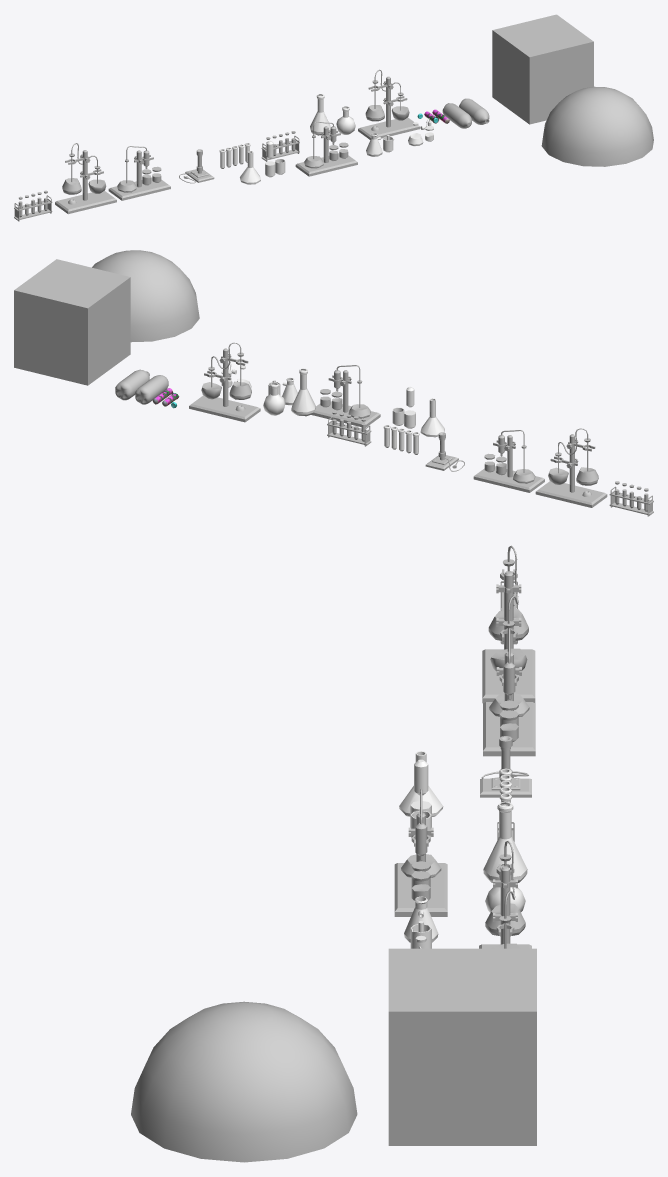
Rendered from GorillaTagScienceExperimentAssets.fbx.
3 renders of one model, top to bottom at view 1: azimuth 30°, elevation 25°; view 2: azimuth 150°, elevation 25°; view 3: azimuth 270°, elevation 25°, orthographic. The views are drawn at different scales.
Parts seen in each view (by area): view 1: BottleLiquid, BubbleHemisphere, ScienceSetEmissive_1, ScienceSet3, ScienceSet2, ScienceSetEmissive, ScienceSet2_Glass, ScienceSet3_Glass, ScienceSetEmissive_2, ScienceSet4, ScienceSet4_Glass, _2LiterBottle (+4 smaller); view 2: BottleLiquid, BubbleHemisphere, ScienceSet3, ScienceSetEmissive_1, ScienceSetEmissive, ScienceSet2, ScienceSet3_Glass, ScienceSet2_Glass, ScienceSet4, ScienceSetEmissive_2, ScienceSet4_Glass, _2LiterBottle (+2 smaller); view 3: BottleLiquid, BubbleHemisphere, ScienceSetEmissive_1, ScienceSetEmissive, ScienceSet2, ScienceSet3, ScienceSet3_Glass, ScienceSet2_Glass, ScienceSet5, ScienceSet1_Glass.
Boxes of the visible parts, bbox=[...] form: BottleLiquid: bbox=[492, 14, 593, 124]; BubbleHemisphere: bbox=[541, 86, 653, 166]; ScienceSetEmissive_1: bbox=[55, 143, 116, 214]; ScienceSet3: bbox=[358, 69, 420, 139]; ScienceSet2: bbox=[295, 121, 357, 176]; ScienceSetEmissive: bbox=[108, 146, 170, 200]; ScienceSet2_Glass: bbox=[240, 140, 285, 184]; ScienceSet3_Glass: bbox=[310, 94, 355, 135]; ScienceSetEmissive_2: bbox=[14, 190, 52, 221]; ScienceSet4: bbox=[261, 131, 299, 161]; ScienceSet4_Glass: bbox=[219, 143, 250, 168]; _2LiterBottle: bbox=[459, 98, 489, 124]; BottleLiquid: bbox=[14, 259, 130, 385]; BubbleHemisphere: bbox=[92, 250, 199, 342]; ScienceSet3: bbox=[189, 342, 260, 422]; ScienceSetEmissive_1: bbox=[535, 428, 607, 507]; ScienceSetEmissive: bbox=[473, 430, 544, 492]; ScienceSet2: bbox=[311, 365, 380, 427]; ScienceSet3_Glass: bbox=[263, 368, 315, 416]; ScienceSet2_Glass: bbox=[392, 386, 444, 437]; ScienceSet4: bbox=[327, 411, 371, 446]; ScienceSetEmissive_2: bbox=[609, 481, 653, 516]; ScienceSet4_Glass: bbox=[383, 425, 419, 454]; _2LiterBottle: bbox=[115, 369, 149, 400]; BottleLiquid: bbox=[388, 948, 536, 1145]; BubbleHemisphere: bbox=[131, 1001, 357, 1162]; ScienceSetEmissive_1: bbox=[482, 545, 535, 703]; ScienceSetEmissive: bbox=[483, 628, 535, 756]; ScienceSet2: bbox=[394, 789, 447, 916]; ScienceSet3: bbox=[479, 840, 531, 948]; ScienceSet3_Glass: bbox=[483, 801, 527, 912]; ScienceSet2_Glass: bbox=[399, 751, 443, 837]; ScienceSet5: bbox=[480, 736, 531, 797]; ScienceSet1_Glass: bbox=[404, 896, 438, 948].
Size of the model in its own units: 576 by 72.88 by 179.
